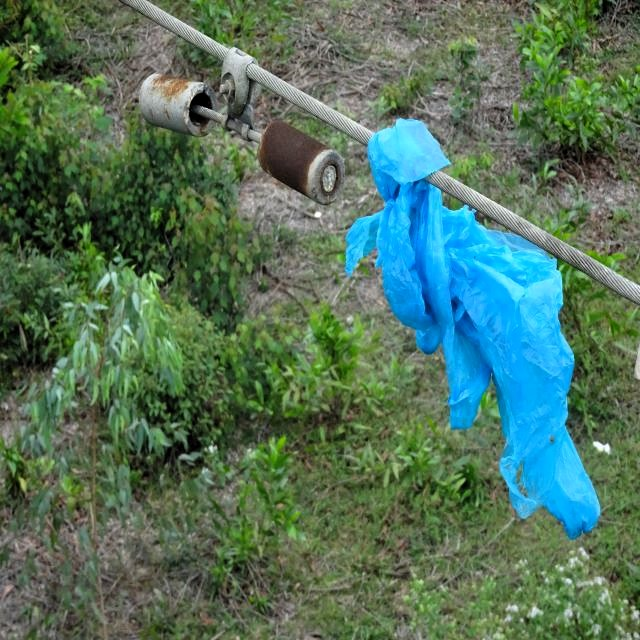wire foreign body: (342, 98, 619, 542)
